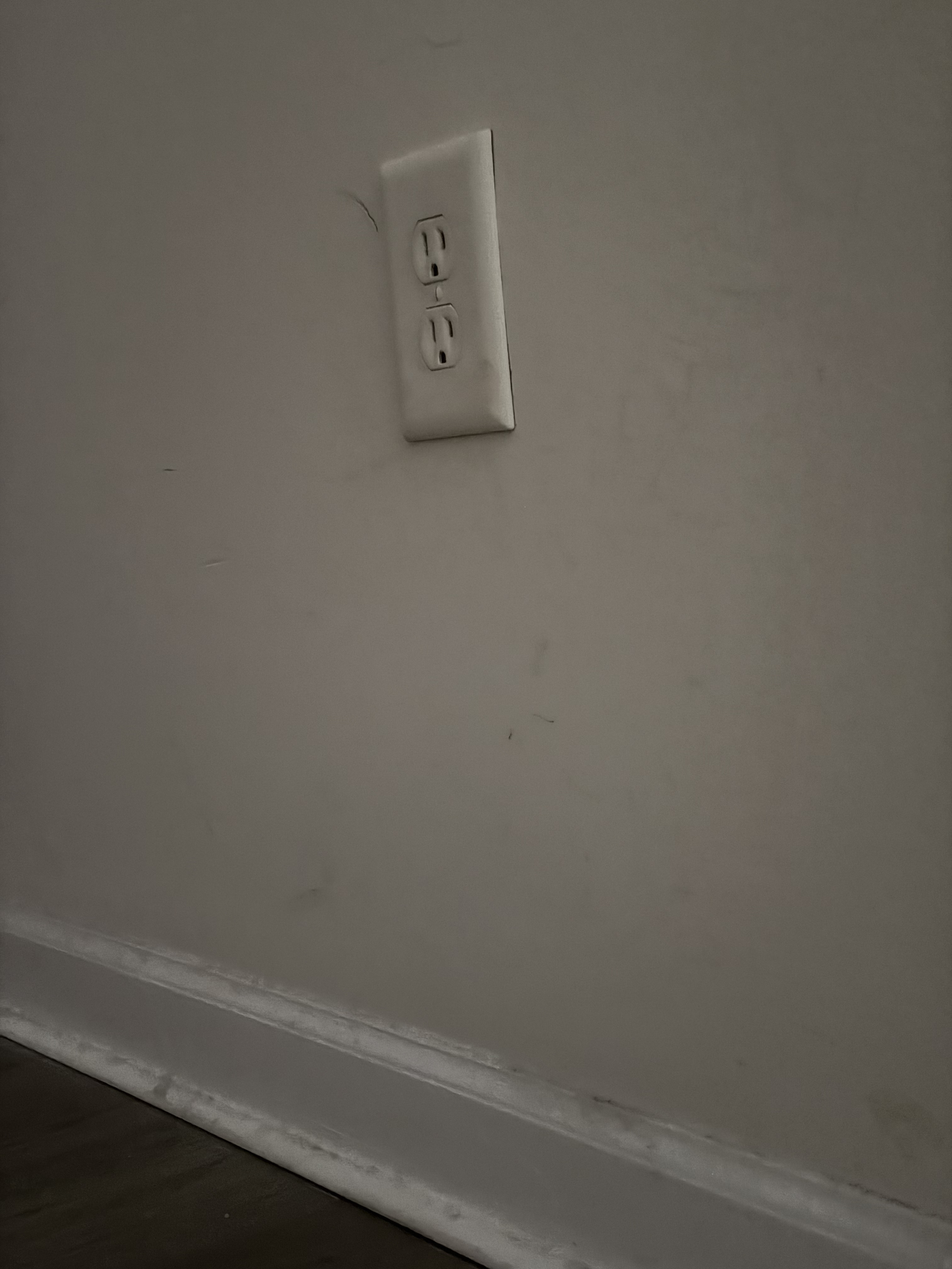outlet: (381, 159, 512, 434)
